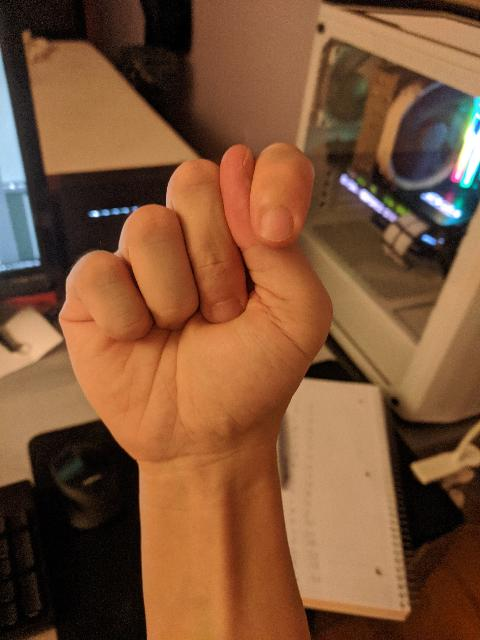T: (54, 135, 342, 472)
